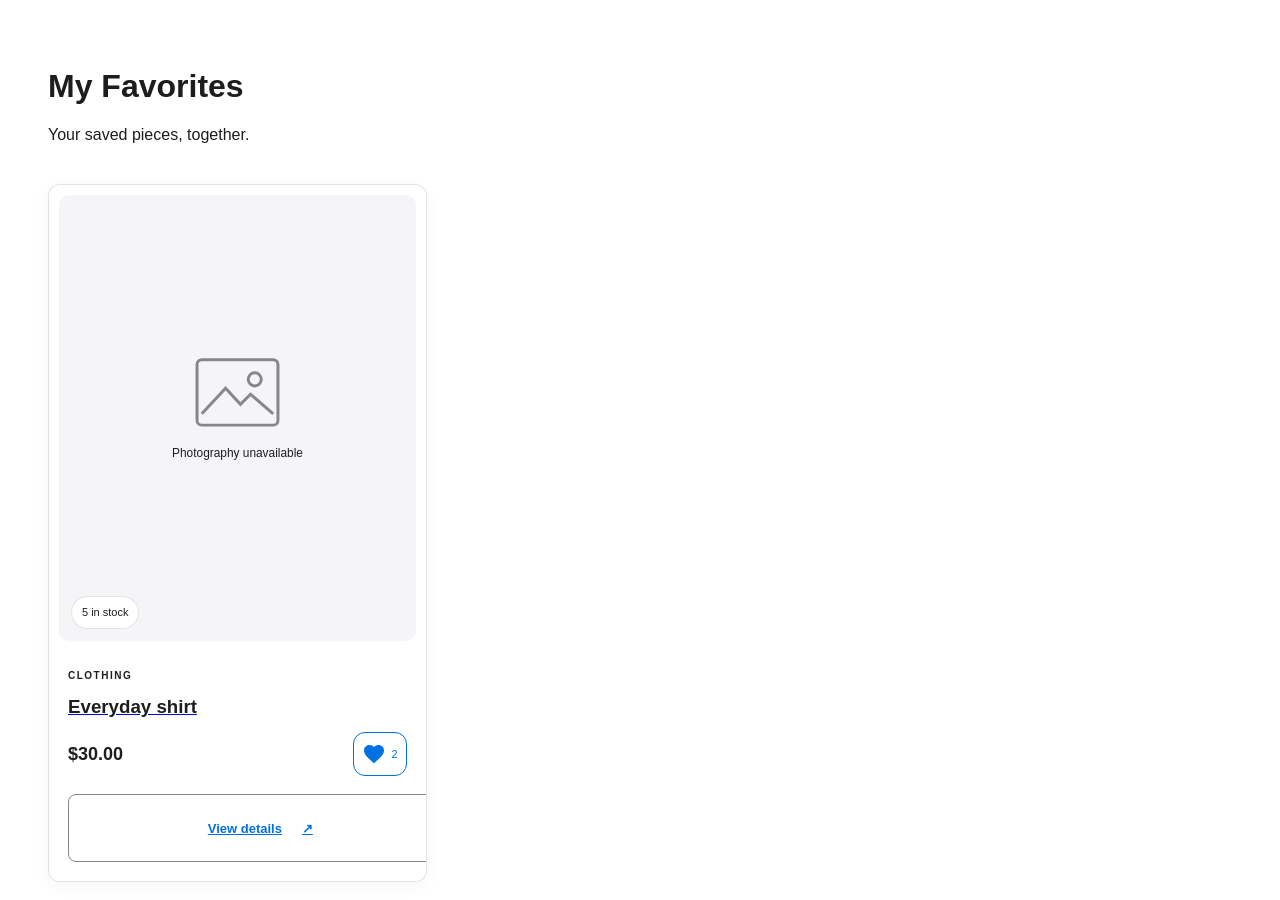
Test case: favorites removal refetches the page and shows the browse action when empty
This screenshot has width=1280, height=900.
Click the button with class "kv-favorite" at (380, 754), box [352,732,407,776]
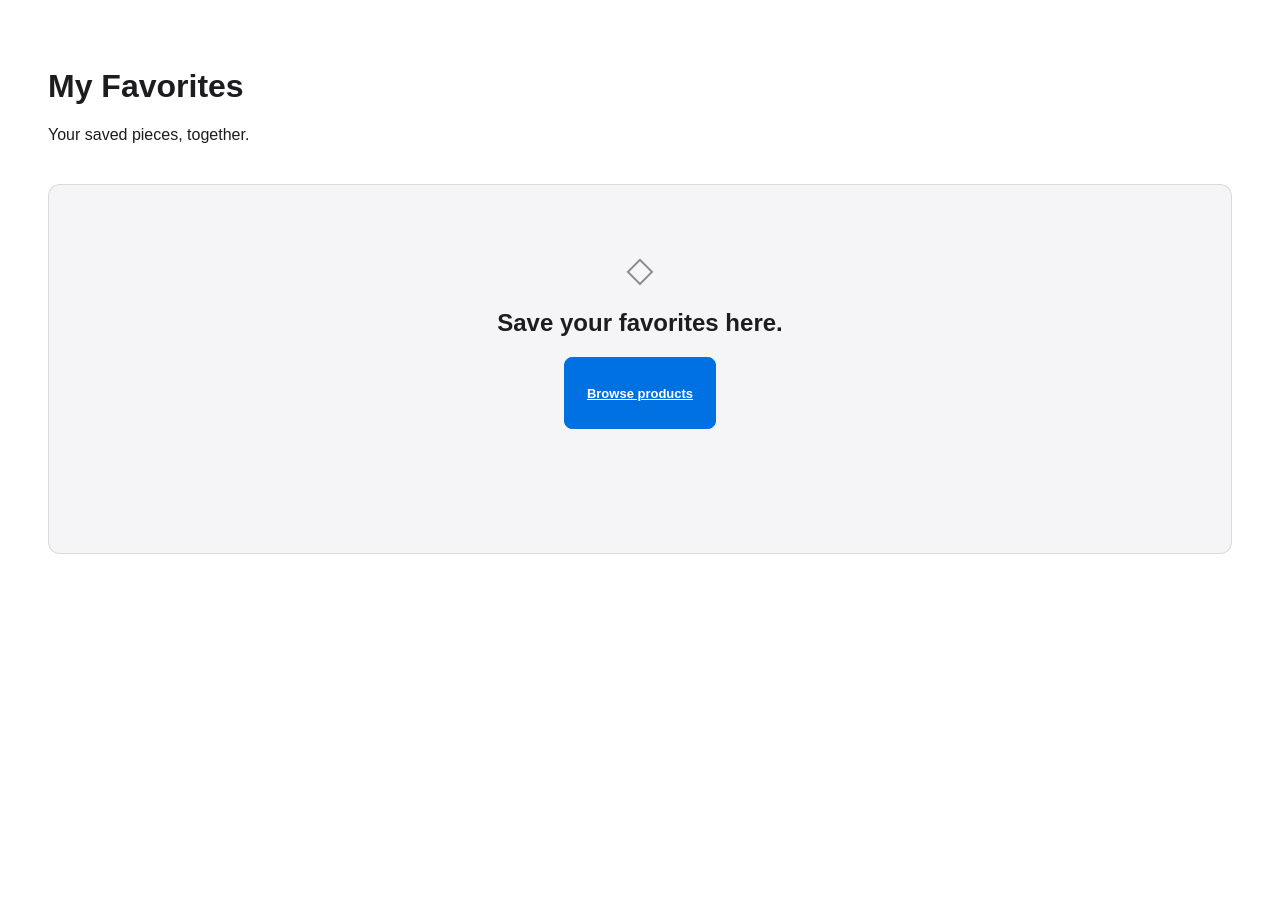
Expected: the text "Browse products" is shown, [564,357,716,429]
Expected: the element with class "kv-product" is gone
